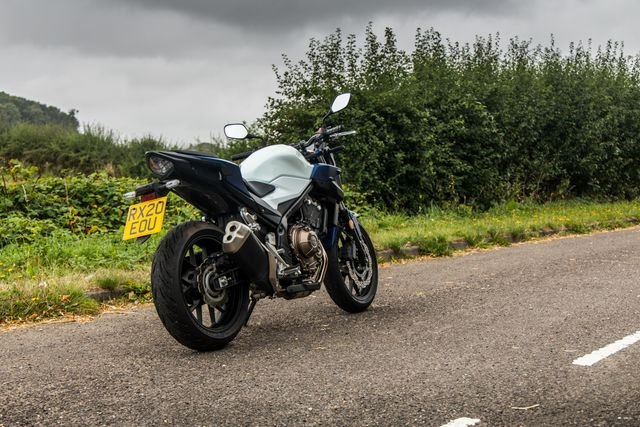motor: (114, 109, 392, 336)
